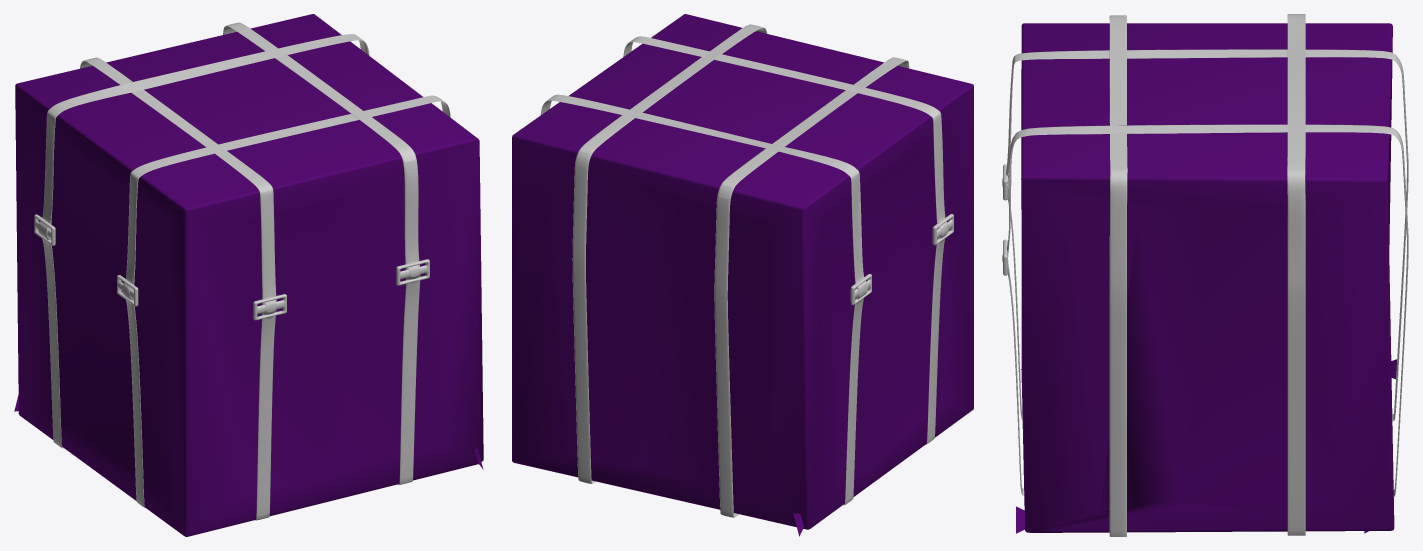
File: purple_supply_box.obj
3 renders of one model, left to right at view 1: azimuth 30°, elevation 25°; view 2: azimuth 150°, elevation 25°; view 3: azimuth 270°, elevation 25°, orthographic. The views are drawn at different scales.
Visible parts, largest first — view 1: Cube.002, Cube.006; view 2: Cube.002, Cube.006; view 3: Cube.002, Cube.006.
Part boxes in pixels (<box>): Cube.002: <box>14,14,483,536</box>; Cube.006: <box>38,22,450,520</box>; Cube.002: <box>512,14,973,536</box>; Cube.006: <box>540,24,948,517</box>; Cube.002: <box>1016,23,1396,533</box>; Cube.006: <box>1002,14,1408,536</box>.
Bounding box in the file's own units: 1.17 × 1.18 × 1.17.
